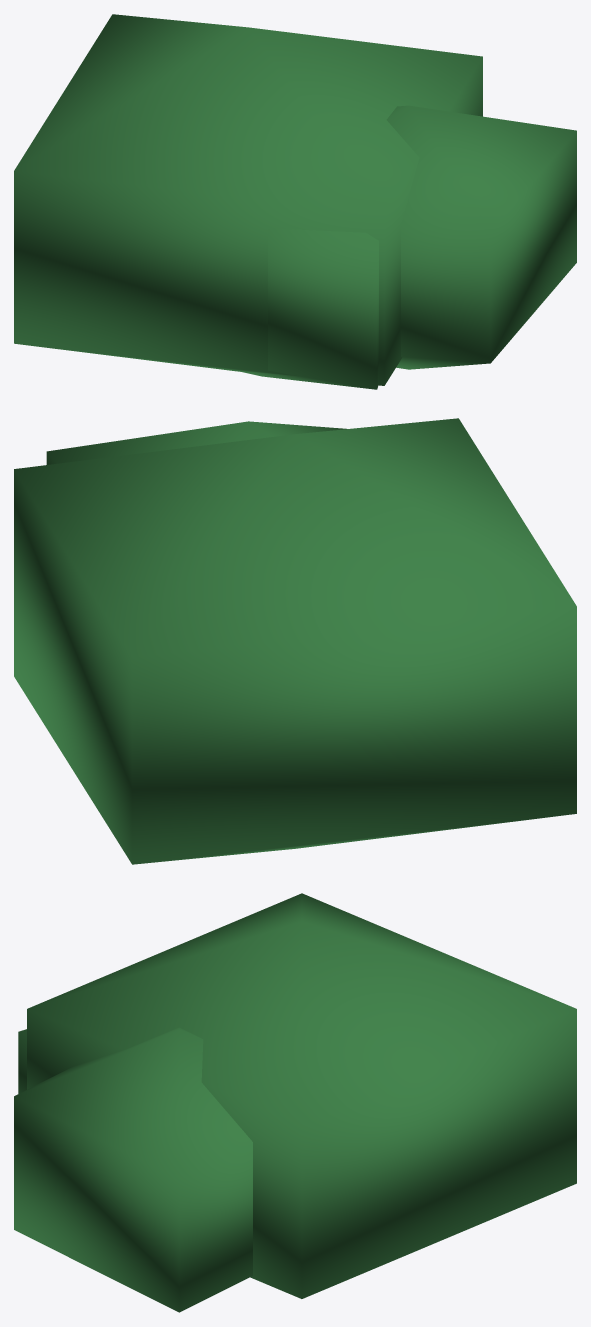
The model's file is bush1.glb.
3 views of the same model, one above another, from view 1: azimuth 30°, elevation 25°; view 2: azimuth 150°, elevation 25°; view 3: azimuth 270°, elevation 25° (orthographic). The views are drawn at different scales.
Bounding box in the file's own units: 1.05 × 0.6913 × 1.01.
